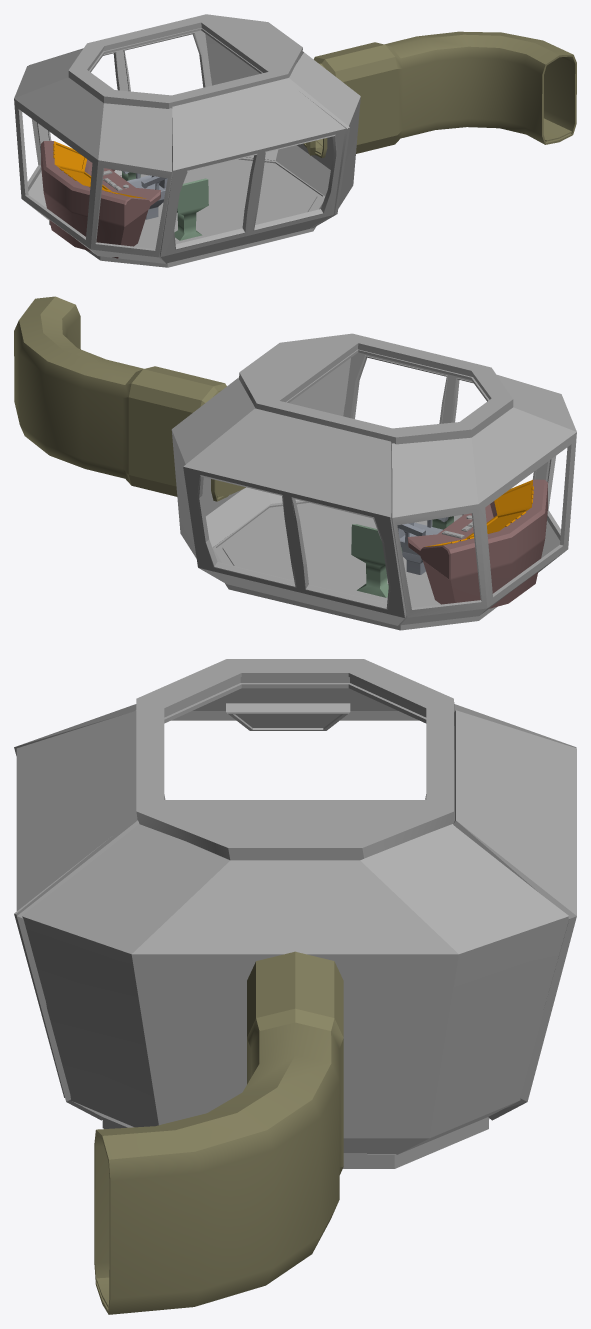
Rendered from MSPZ_NEW_GREYBOX.fbx.
3 renders of one model, top to bottom at view 1: azimuth 30°, elevation 25°; view 2: azimuth 150°, elevation 25°; view 3: azimuth 270°, elevation 25°, orthographic. The views are drawn at different scales.
Parts seen in each view (by area): view 1: polySurface23, polySurface26, Front_Wall, Ceiling, Floor, Rear_wall, polySurface43, polySurface39, pasted__pCube4, Chair2, polySurface42, polySurface24 (+1 smaller); view 2: polySurface23, polySurface39, Front_Wall, Ceiling, Floor, Rear_wall, polySurface43, polySurface26, power_grid, Chair2, polySurface41, polySurface44; view 3: Rear_wall, polySurface23, Ceiling, polySurface39, polySurface26, Front_Wall, pCube6, Floor.
Part boxes in pixels (x1,y1,x2,y2): polySurface23: [303, 31, 576, 157]; polySurface26: [160, 78, 349, 263]; Front_Wall: [14, 49, 172, 263]; Ceiling: [68, 14, 302, 108]; Floor: [49, 157, 325, 267]; Rear_wall: [205, 33, 360, 228]; polySurface43: [41, 141, 160, 258]; polySurface39: [29, 30, 211, 175]; pasted__pCube4: [174, 178, 208, 240]; Chair2: [122, 171, 167, 219]; polySurface42: [54, 141, 86, 171]; polySurface24: [305, 118, 571, 154]; polySurface23: [14, 296, 228, 501]; polySurface39: [183, 408, 406, 625]; Front_Wall: [391, 375, 576, 625]; Ceiling: [239, 333, 513, 444]; Floor: [212, 500, 497, 630]; Rear_wall: [171, 358, 350, 562]; polySurface43: [407, 479, 547, 608]; polySurface26: [343, 352, 549, 521]; power_grid: [351, 524, 402, 597]; Chair2: [397, 517, 448, 574]; polySurface41: [494, 480, 532, 514]; polySurface44: [465, 507, 531, 538]; Rear_wall: [14, 824, 569, 1154]; polySurface23: [94, 951, 343, 1314]; Ceiling: [136, 659, 454, 860]; polySurface39: [453, 710, 576, 1120]; polySurface26: [16, 711, 139, 1120]; Front_Wall: [14, 688, 576, 799]; pCube6: [226, 703, 350, 730]; Floor: [102, 1117, 489, 1168].
Size of the model in its own units: 8630 by 2719 by 4574.
